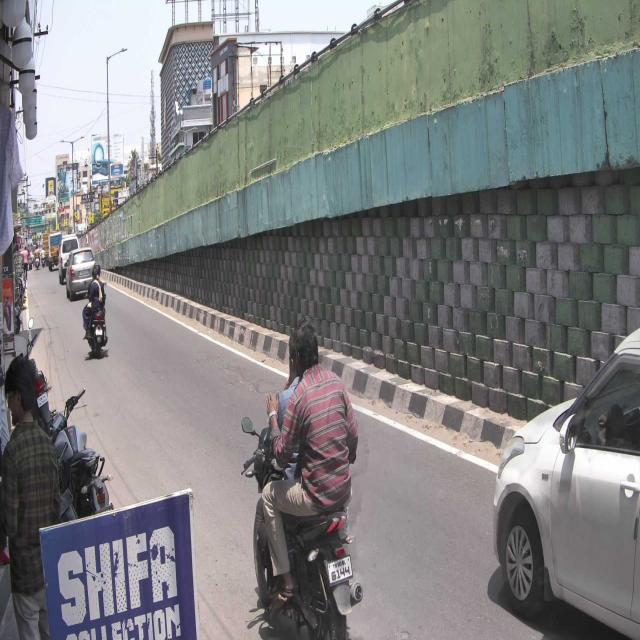double_rider: (238, 314, 364, 640)
